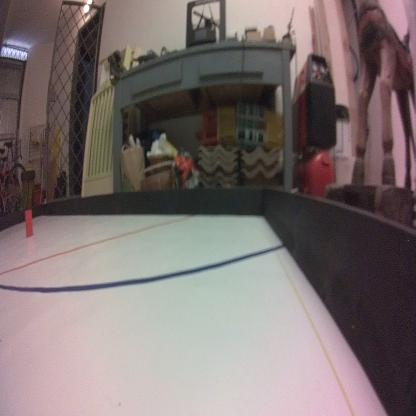red: (24, 210, 33, 237)
